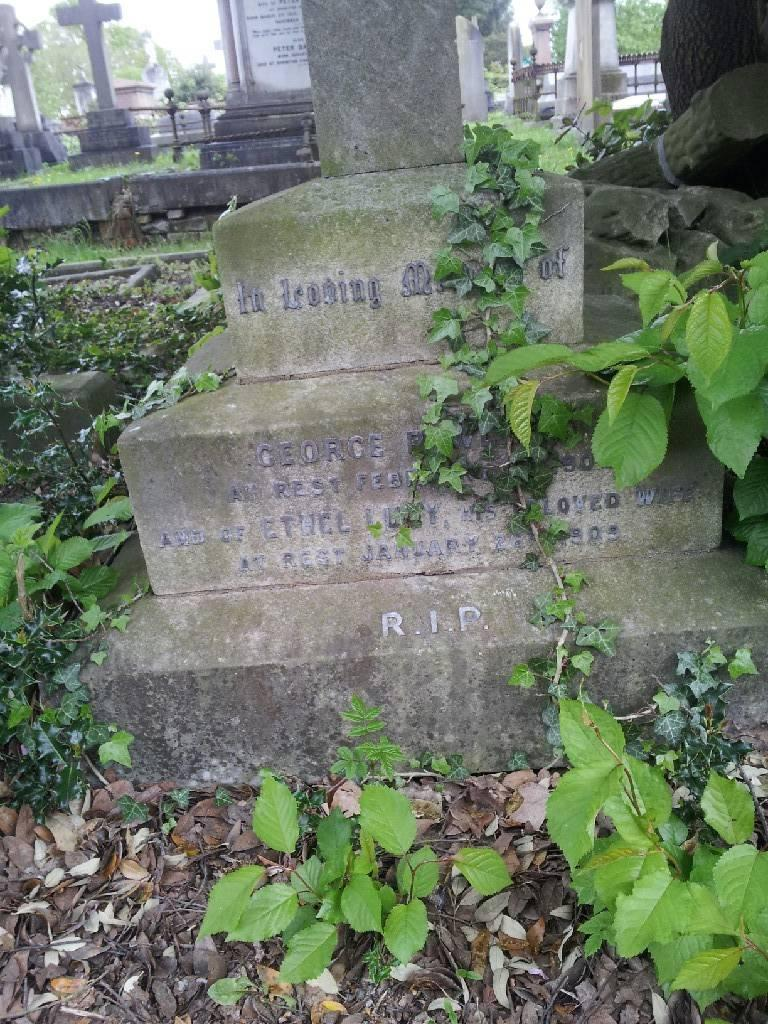obelisk: (86, 3, 768, 800)
